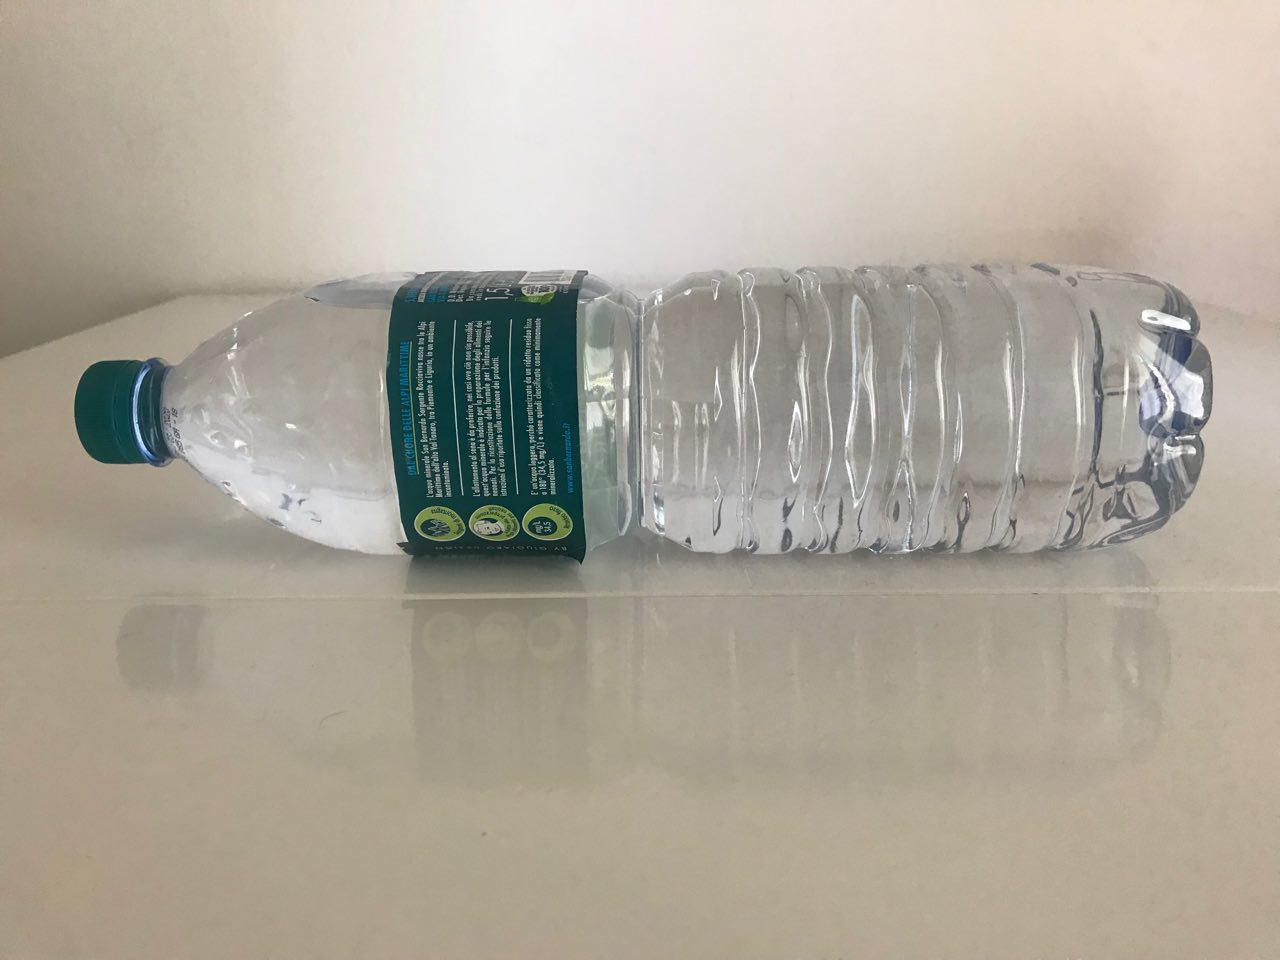san_bernardo: (73, 260, 1215, 559)
